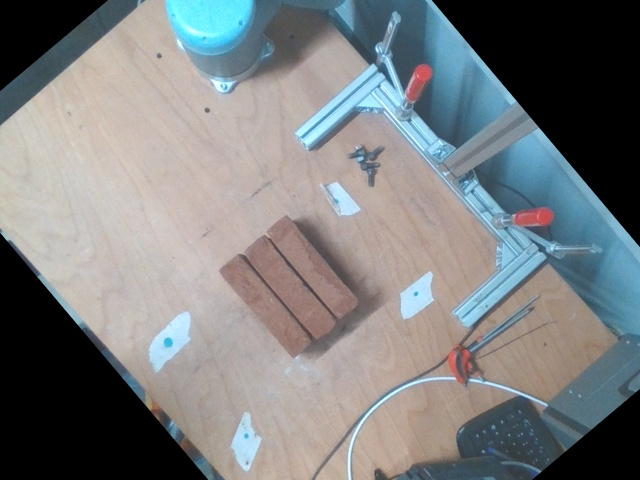brick-side: (262, 215, 361, 324), (243, 233, 341, 342), (218, 253, 316, 362)
